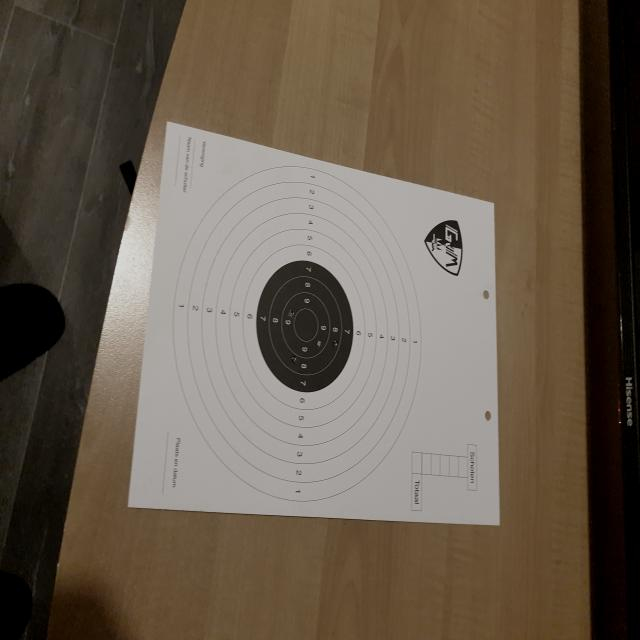8: (291, 354, 298, 364), (332, 339, 339, 348)
9: (288, 309, 295, 321), (316, 341, 322, 348)
Target: (172, 164, 422, 502)
black_contour: (256, 260, 354, 394)
